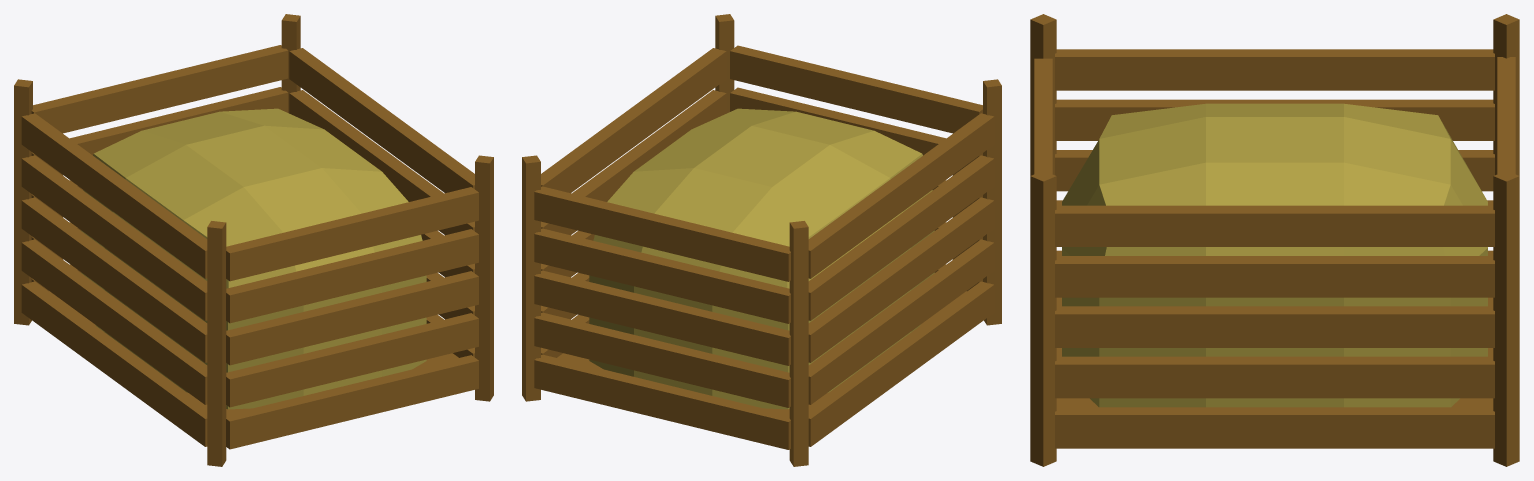
The model's file is fruit_box_with_fruit.fbx.
3 renders of one model, left to right at view 1: azimuth 30°, elevation 25°; view 2: azimuth 150°, elevation 25°; view 3: azimuth 270°, elevation 25°, orthographic. The views are drawn at different scales.
Visible parts, largest first — view 1: Rs, Fs, Cube, Bs, Ls, Eck.004, Eck.002, Eck.003, Eck.001; view 2: Ls, Fs, Cube, Bs, Rs, Eck.003, Eck.001, Eck.004, Eck.002; view 3: Bs, Cube, Fs, Eck.002, Eck.001, Ls, Rs, Eck.004, Eck.003, Boden.
Part boxes in pixels (x1,y1,x2,y2): Rs: (226,187,478,449); Fs: (21,113,207,446); Cube: (81,108,426,409); Bs: (289,48,474,357); Ls: (31,45,288,291); Eck.004: (207,221,226,466); Eck.002: (475,155,493,401); Eck.003: (14,79,32,325); Eck.001: (281,14,300,113); Ls: (534,186,790,449); Fs: (808,113,994,446); Cube: (589,108,934,409); Bs: (541,48,726,357); Rs: (730,45,982,291); Eck.003: (789,221,808,466); Eck.001: (522,155,540,401); Eck.004: (983,79,1001,325); Eck.002: (715,14,734,113); Bs: (1055,205,1494,448); Cube: (1062,103,1487,407); Fs: (1055,49,1494,255); Eck.002: (1030,170,1056,466); Eck.001: (1493,170,1519,466); Ls: (1497,57,1515,174); Rs: (1034,58,1052,174); Eck.004: (1030,14,1056,175); Eck.003: (1493,14,1519,175); Boden: (1056,297,1493,407).
Size of the model in its own units: 42.83 by 34 by 52.83.
